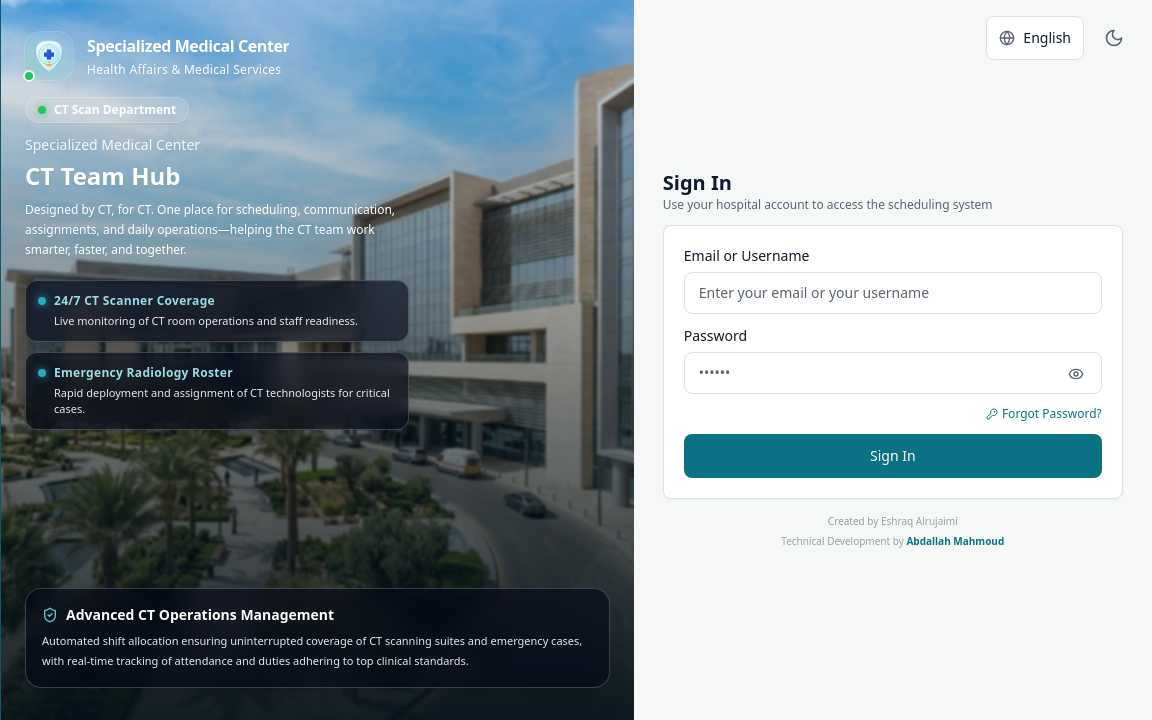
Test: LoginPage › shows invalid-credential feedback and does not authenticate
The image size is (1152, 720).
Type "unknown-user" into the field labelled "Email or Username".
click(893, 293); type("unknown-user")  # box [684, 272, 1102, 314]
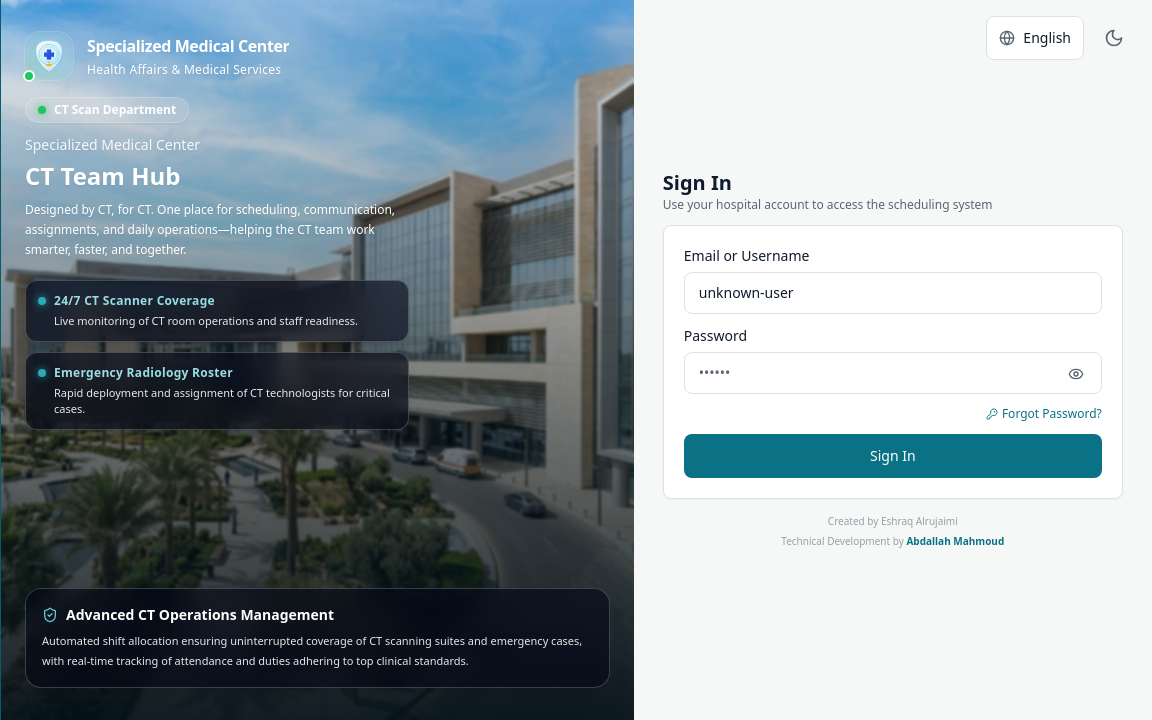
Type "wrong-password" into the password field labelled "Password".
click(893, 373); type("wrong-password")  # box [684, 352, 1102, 394]
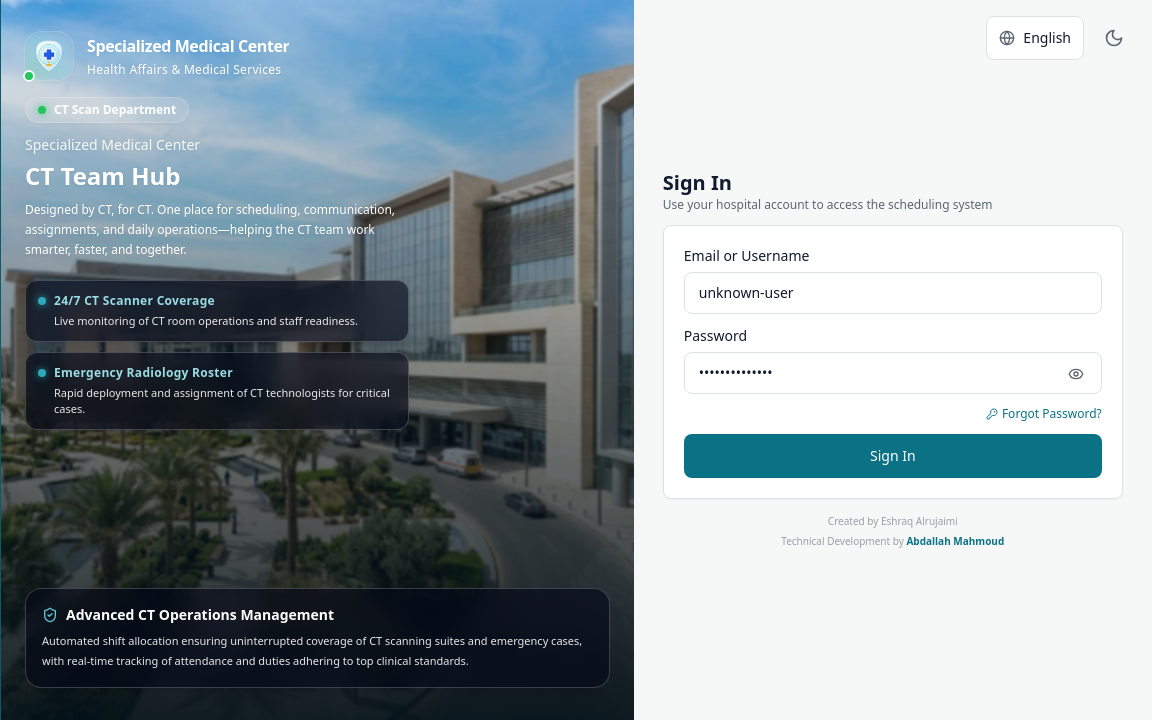
Click the button "Sign In".
click(893, 456)  # box [684, 434, 1102, 478]
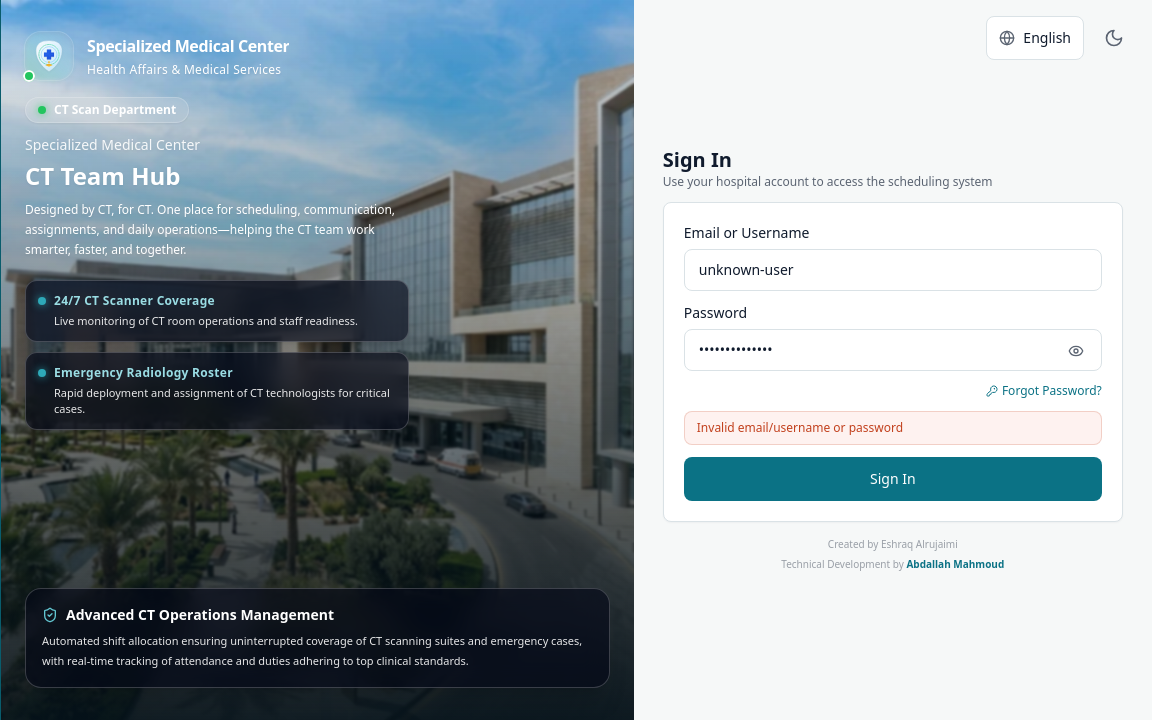
Expected: the button "Invalid email/username or password" is shown, [684, 411, 1102, 445]
